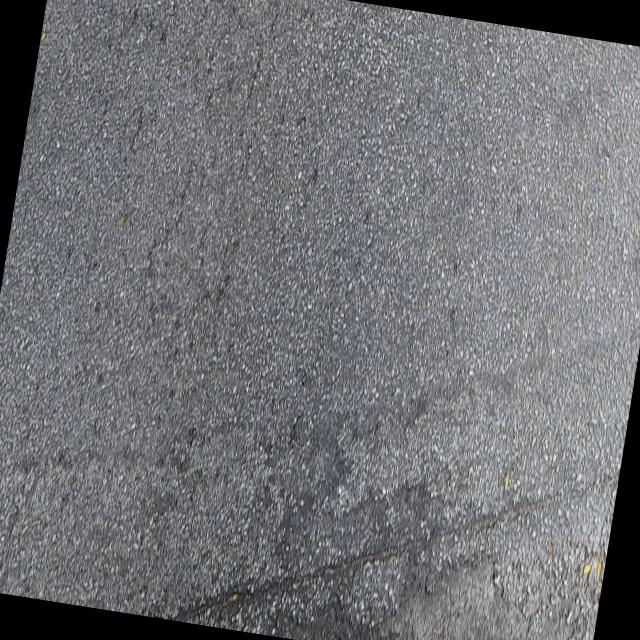Retak-Melintang: (169, 467, 618, 622)
